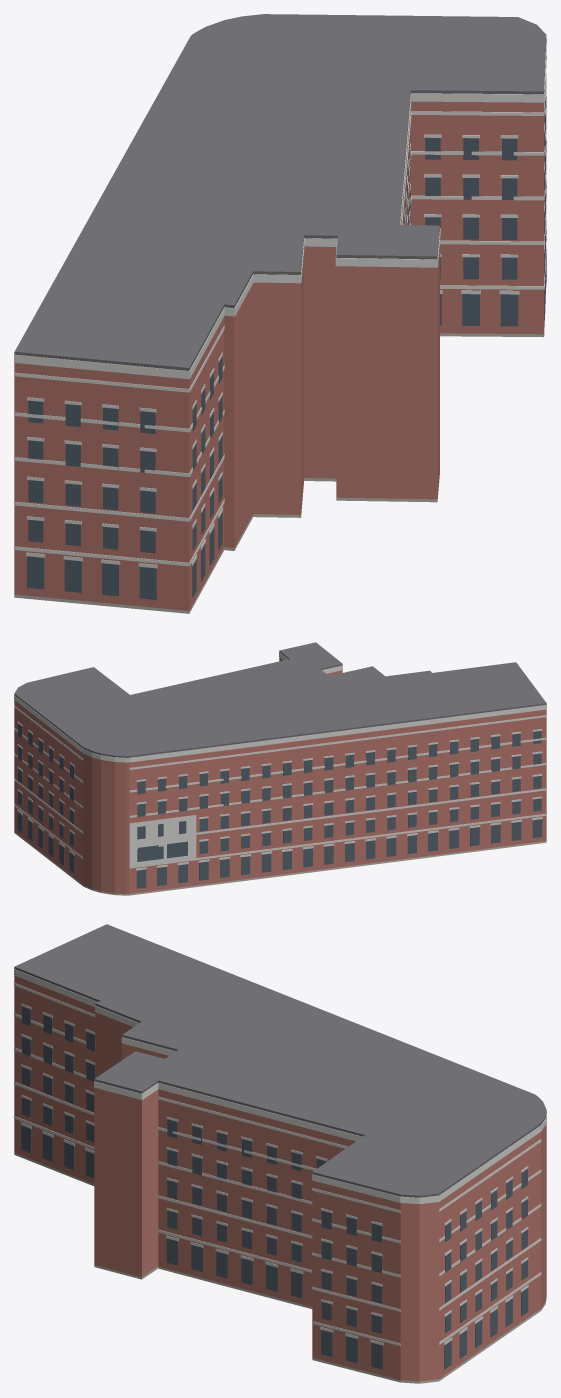
File: academy_tier2.glb
3 renders of one model, top to bottom at view 1: azimuth 30°, elevation 25°; view 2: azimuth 150°, elevation 25°; view 3: azimuth 270°, elevation 25°, orthographic. The views are drawn at different scales.
Parts seen in each view (by area): view 1: academy_walls, academy_roof, academy_plinth, cornice_22, cornice_11, cornice_7, trim_22_22.0, trim_22_4.5, trim_22_9.0; view 2: academy_walls, academy_roof, cornice_21, baystone, academy_plinth, trim_21_22.0, trim_21_9.0, trim_21_4.5, trim_21_18.0, trim_21_13.5, cornice_15; view 3: academy_walls, academy_roof, academy_plinth, cornice_10, cornice_15, trim_10_22.0, cornice_12, cornice_0.
Part boxes in pixels (box(x1,y1,x2,y2)): academy_walls: box(14, 77, 546, 610); academy_roof: box(14, 14, 546, 370); academy_plinth: box(14, 292, 545, 613); cornice_22: box(14, 354, 189, 379); cornice_11: box(411, 93, 543, 102); cornice_7: box(336, 258, 437, 267); trim_22_22.0: box(14, 372, 189, 392); trim_22_4.5: box(14, 546, 189, 566); trim_22_9.0: box(14, 501, 189, 521); academy_walls: box(14, 657, 546, 893); academy_roof: box(14, 642, 546, 757); cornice_21: box(129, 705, 546, 762); baystone: box(129, 815, 196, 868); academy_plinth: box(14, 831, 546, 895); trim_21_22.0: box(129, 715, 546, 769); trim_21_9.0: box(129, 788, 546, 842); trim_21_4.5: box(196, 813, 546, 859); trim_21_18.0: box(129, 737, 546, 792); trim_21_13.5: box(129, 763, 546, 817); cornice_15: box(14, 695, 82, 752); academy_walls: box(14, 975, 546, 1381); academy_roof: box(14, 924, 546, 1197); academy_plinth: box(14, 1152, 546, 1383); cornice_10: box(158, 1083, 362, 1141); cornice_15: box(439, 1125, 541, 1201); trim_10_22.0: box(158, 1096, 347, 1148); cornice_12: box(312, 1174, 400, 1202); cornice_0: box(14, 969, 97, 1006).
Size of the model in its own units: 76.69 by 24.77 by 63.56.
